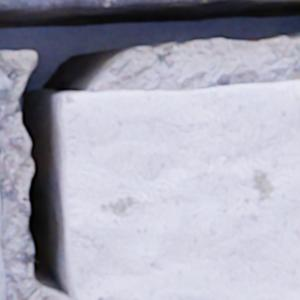brick: (61, 81, 299, 299), (0, 0, 217, 10), (0, 202, 6, 299)
crack: (0, 0, 299, 299)
